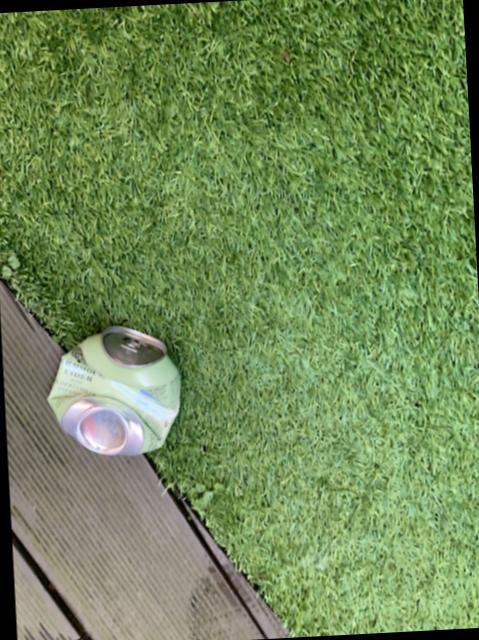metal: (49, 327, 180, 455)
